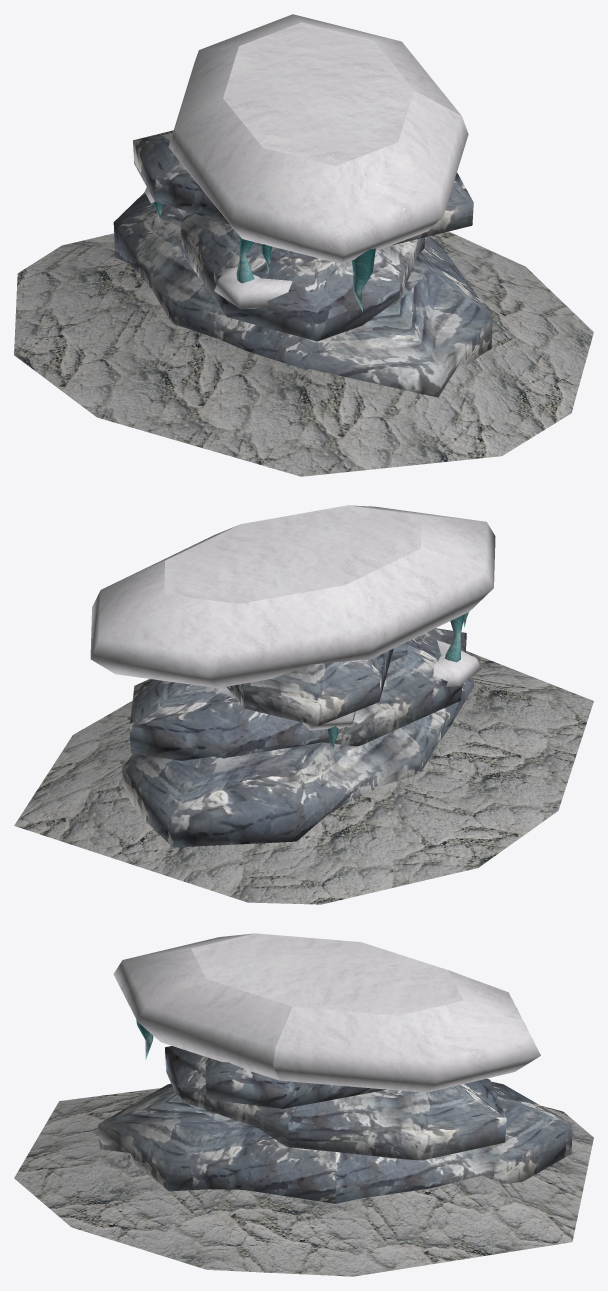
The model's file is snow-rock.glb.
3 renders of one model, top to bottom at view 1: azimuth 30°, elevation 25°; view 2: azimuth 150°, elevation 25°; view 3: azimuth 270°, elevation 25°, orthographic. The views are drawn at different scales.
Parts seen in each view (by area): view 1: stk_generic_gravalSnow_a.png__, stk_generic_snow_a.png__, stk_generic_rockSnow_a.png__, stk_generic_ice_a.png__; view 2: stk_generic_gravalSnow_a.png__, stk_generic_snow_a.png__, stk_generic_rockSnow_a.png__, stk_generic_ice_a.png__; view 3: stk_generic_snow_a.png__, stk_generic_gravalSnow_a.png__, stk_generic_rockSnow_a.png__.
Part boxes in pixels (<box>): stk_generic_gravalSnow_a.png__: <box>14,231,593,476</box>; stk_generic_snow_a.png__: <box>144,14,468,308</box>; stk_generic_rockSnow_a.png__: <box>113,130,492,397</box>; stk_generic_ice_a.png__: <box>153,201,375,312</box>; stk_generic_gravalSnow_a.png__: <box>14,651,593,904</box>; stk_generic_snow_a.png__: <box>90,505,495,730</box>; stk_generic_rockSnow_a.png__: <box>122,628,473,847</box>; stk_generic_ice_a.png__: <box>327,612,468,752</box>; stk_generic_snow_a.png__: <box>113,933,540,1092</box>; stk_generic_gravalSnow_a.png__: <box>14,1088,593,1276</box>; stk_generic_rockSnow_a.png__: <box>98,1046,572,1203</box>.
Size of the model in its own units: 7.42 by 3.75 by 8.97.
4 materials, 4 textured.
